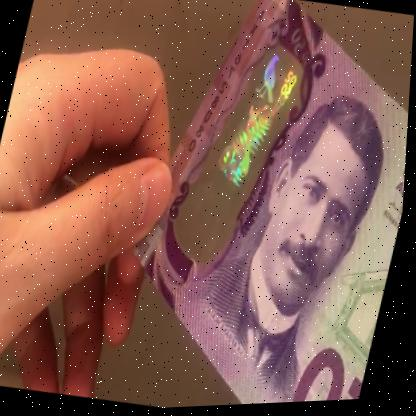50F: (185, 43, 313, 274)
